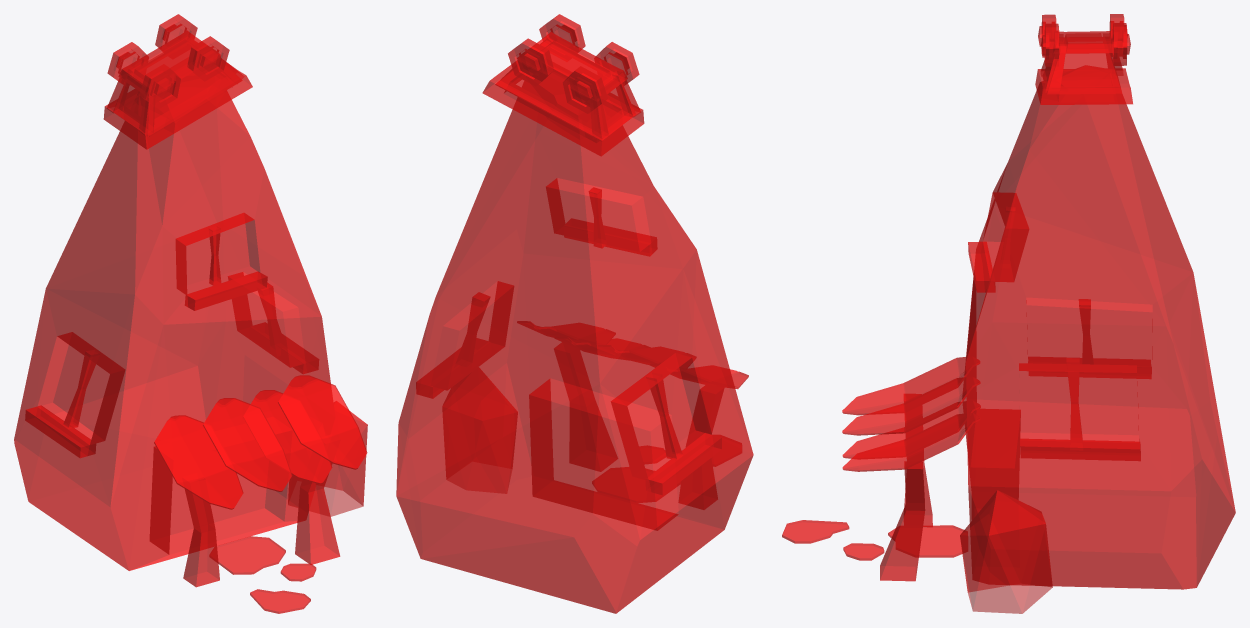
Rendered from Miner_house_impossible_to_place.fbx.
The picture shows the model from 3 angles, left to right: view 1: azimuth 30°, elevation 25°; view 2: azimuth 150°, elevation 25°; view 3: azimuth 270°, elevation 25°; orthographic projection. The views are drawn at different scales.
Visible parts, largest first — view 1: Cube.004; view 2: Cube.004; view 3: Cube.004.
Part boxes in pixels (x1,y1,x2,y2): Cube.004: [14, 14, 367, 613]; Cube.004: [396, 14, 753, 613]; Cube.004: [782, 14, 1235, 613].
Bounding box in the file's own units: 4.69 × 6.14 × 7.99.
